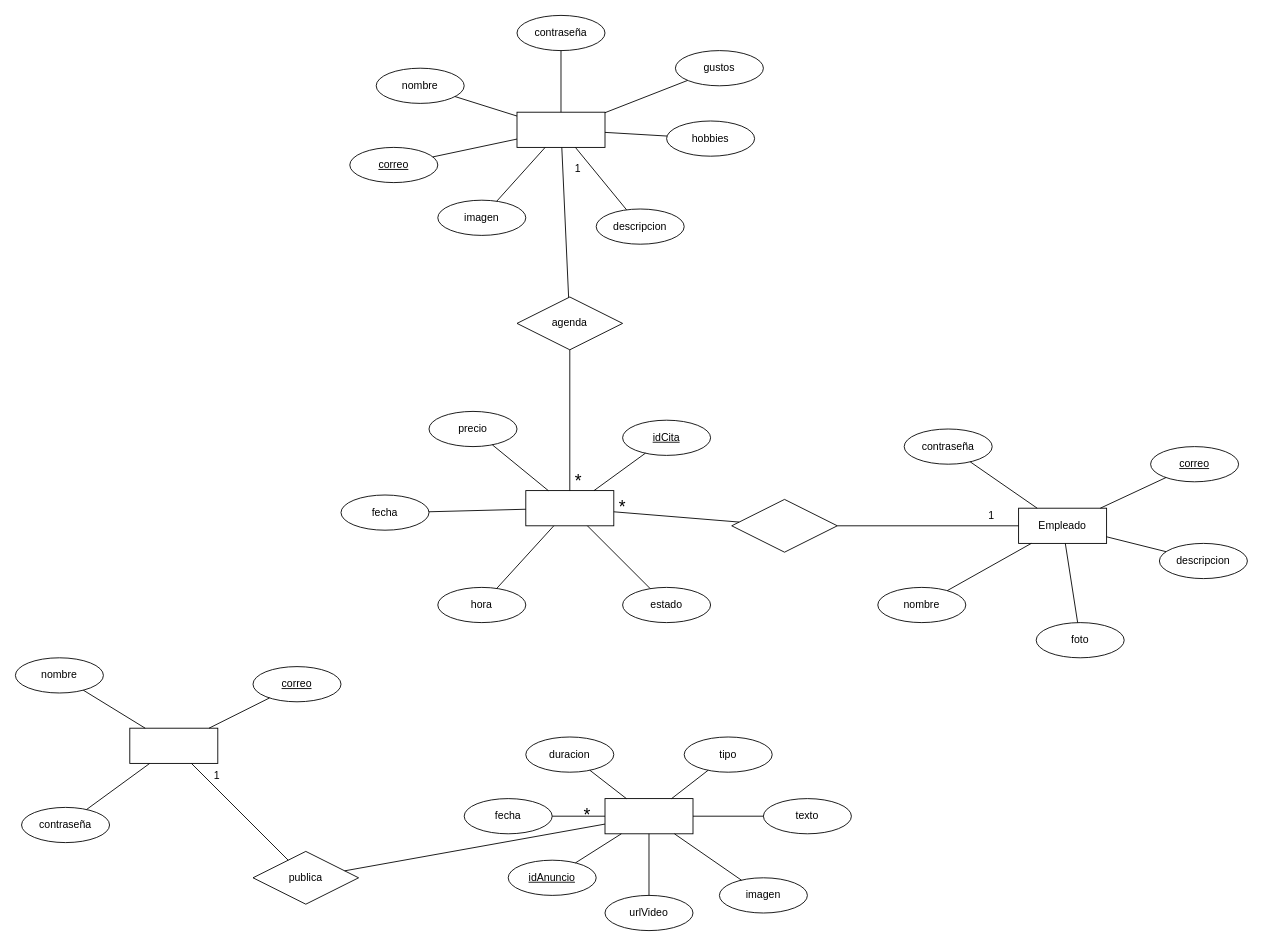
This 1263x946 diagram has some shape labels left out. The box of each missing label's shape, as (x1, y1, x2, y2) in pixels:
Anuncio: (604, 798, 693, 834)
atiende: (731, 499, 837, 552)
Cita: (525, 490, 614, 526)
Cliente: (516, 111, 605, 147)
Usuario de marketing: (129, 727, 218, 763)
